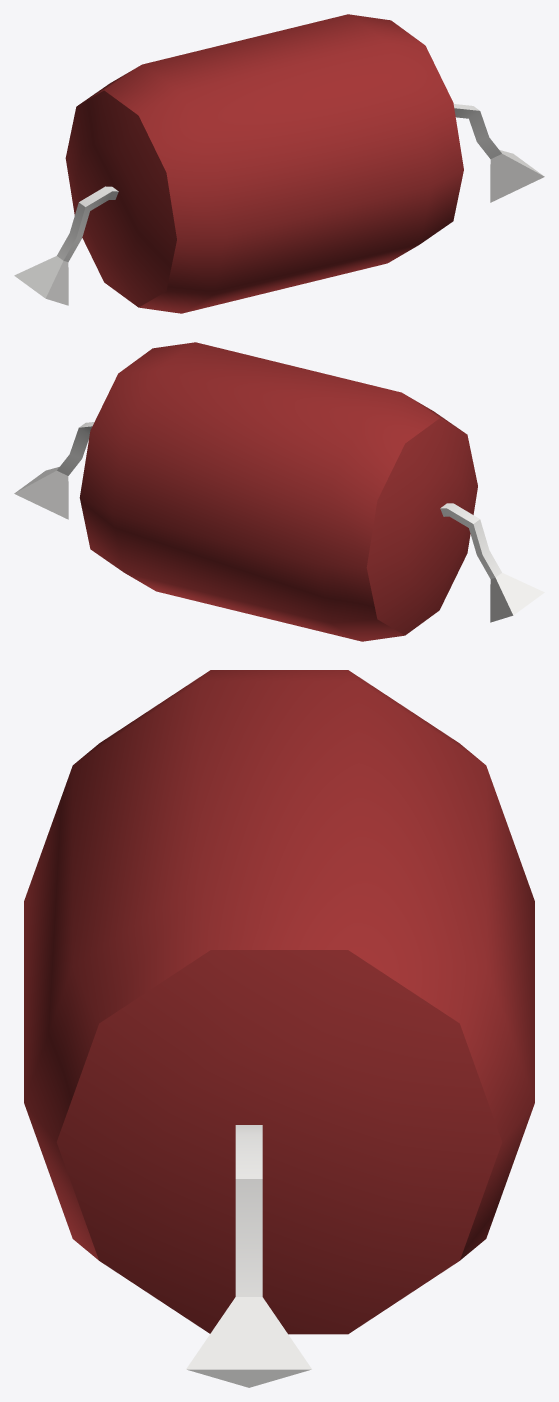
The model's file is SM_pillow_02.fbx.
3 renders of one model, top to bottom at view 1: azimuth 30°, elevation 25°; view 2: azimuth 150°, elevation 25°; view 3: azimuth 270°, elevation 25°, orthographic. The views are drawn at different scales.
Visible parts, largest first — view 1: Cylinder017; view 2: Cylinder017; view 3: Cylinder017.
Part boxes in pixels (<box>): Cylinder017: <box>14,14,544,313</box>; Cylinder017: <box>14,342,544,641</box>; Cylinder017: <box>24,670,534,1387</box>.
Bounding box in the file's own units: 25.5 × 11.3 × 10.75.
